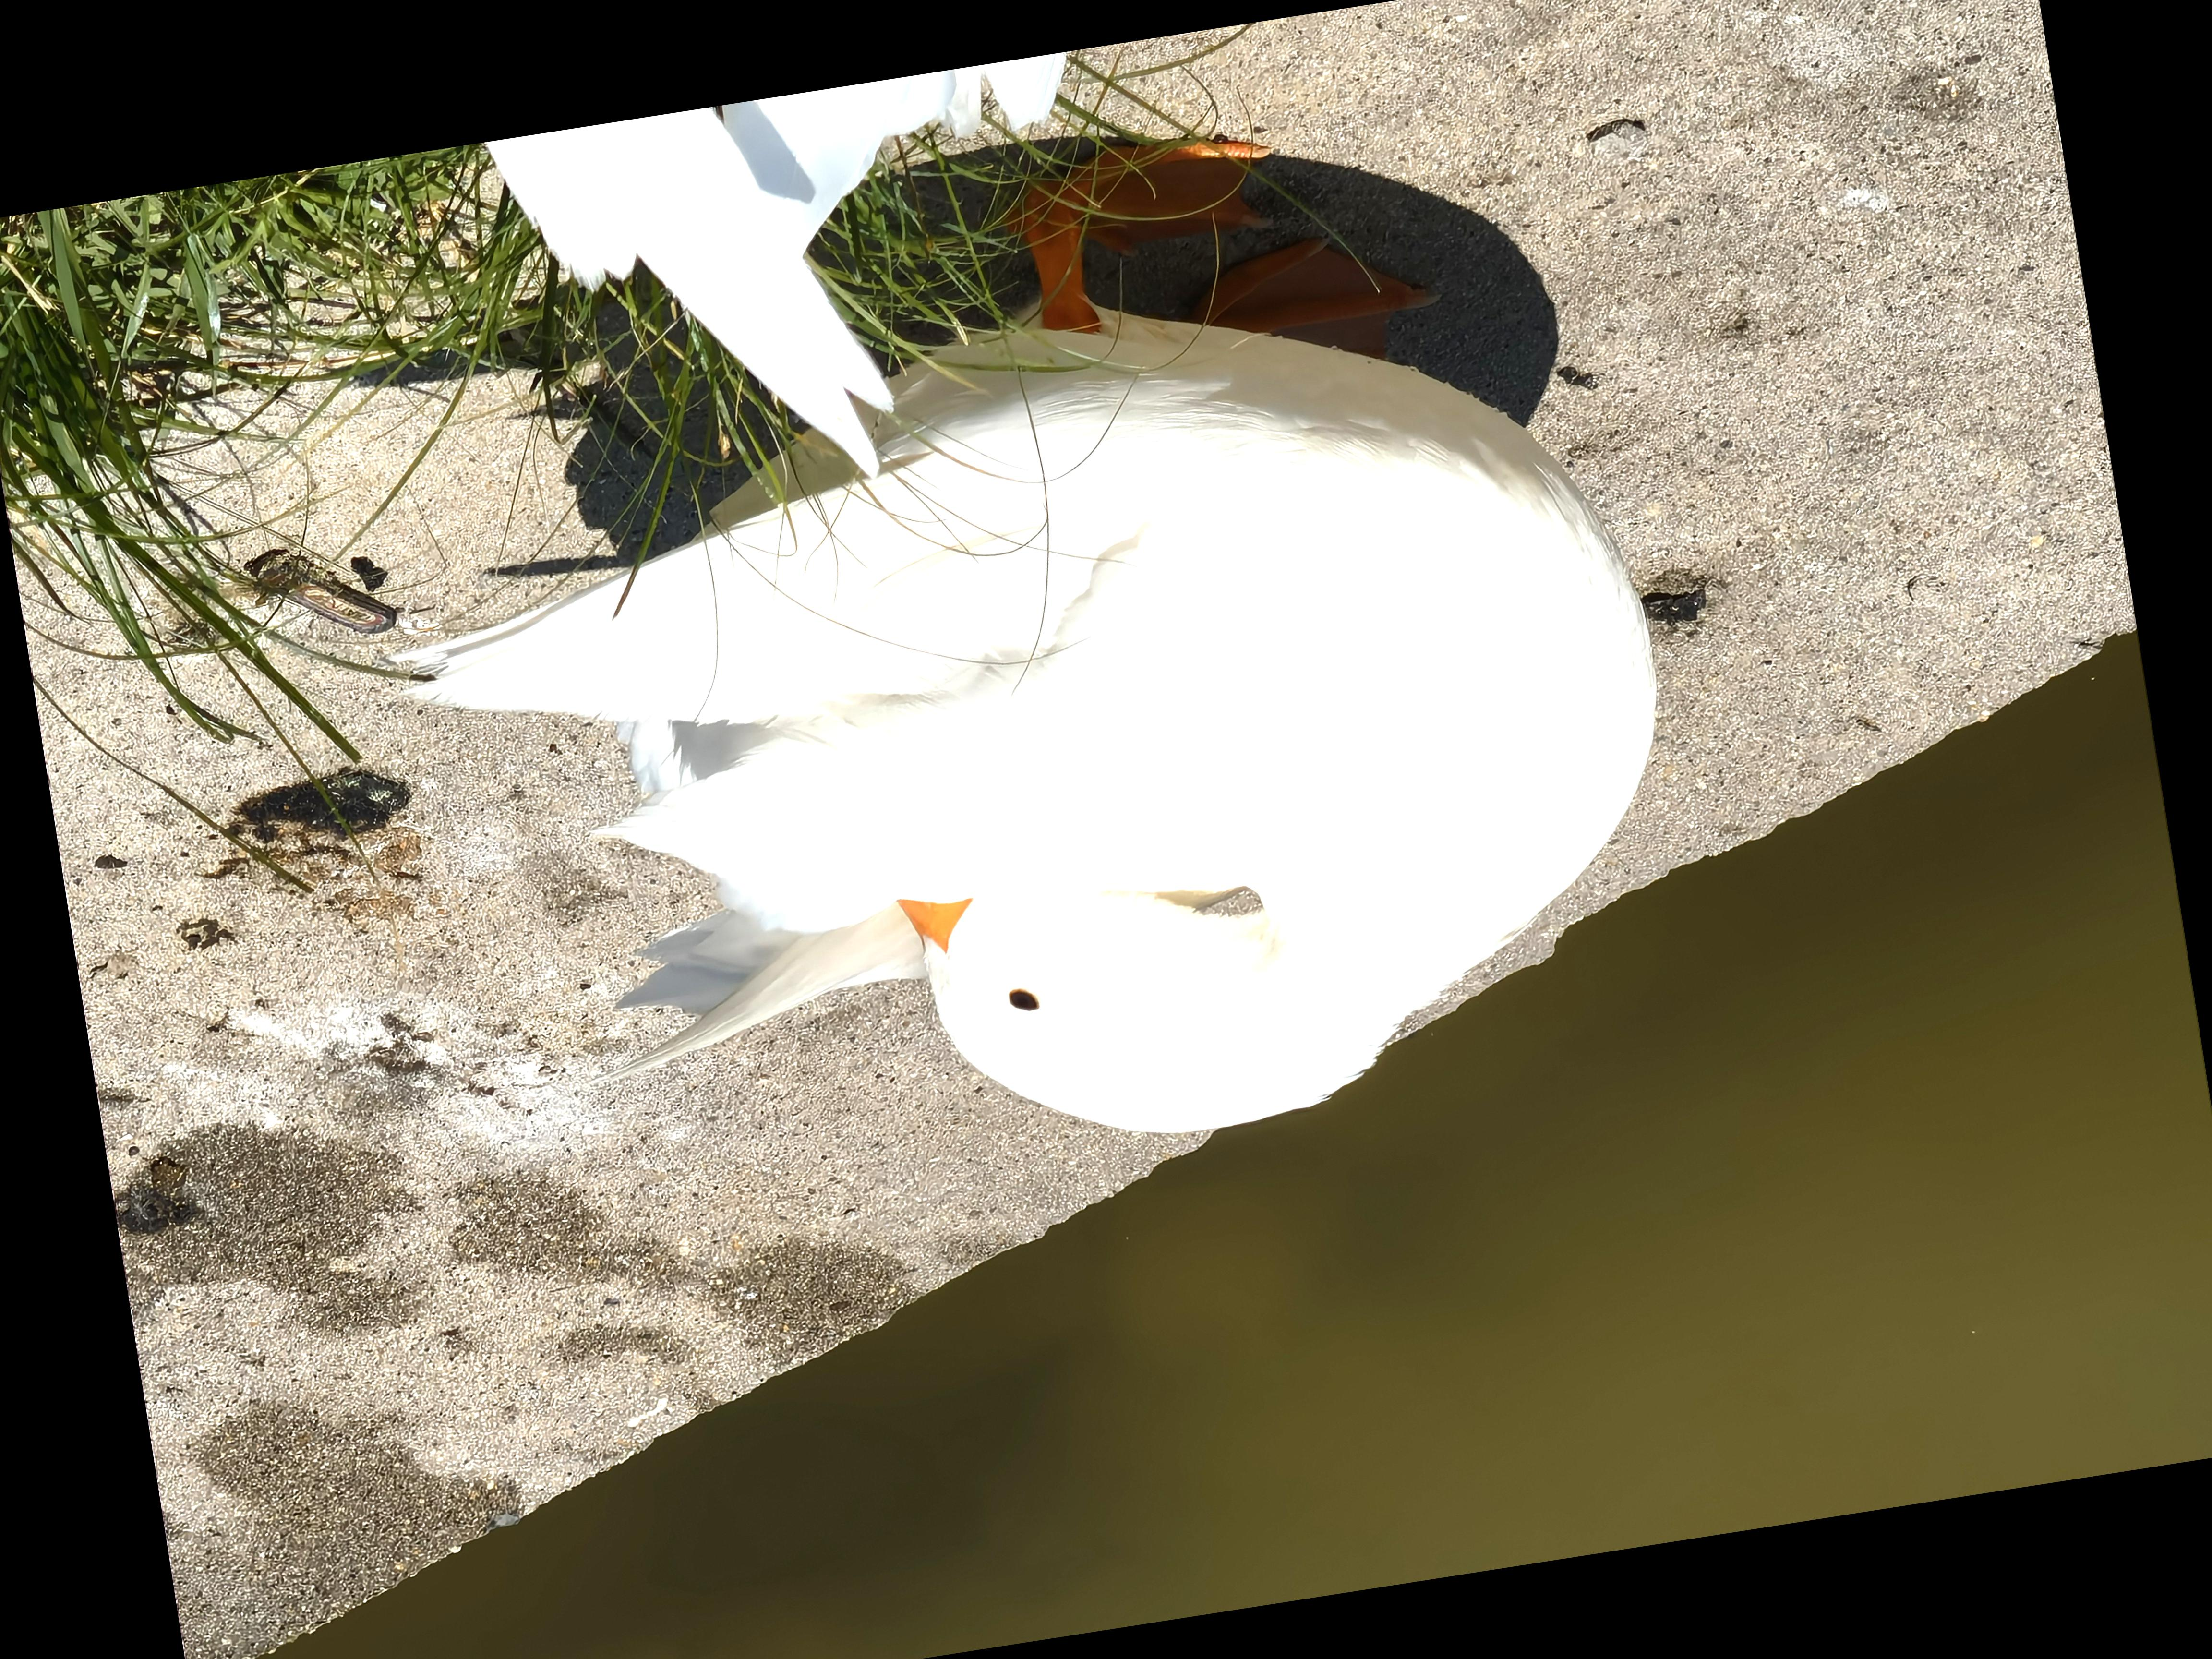duck: (366, 68, 1766, 1281)
